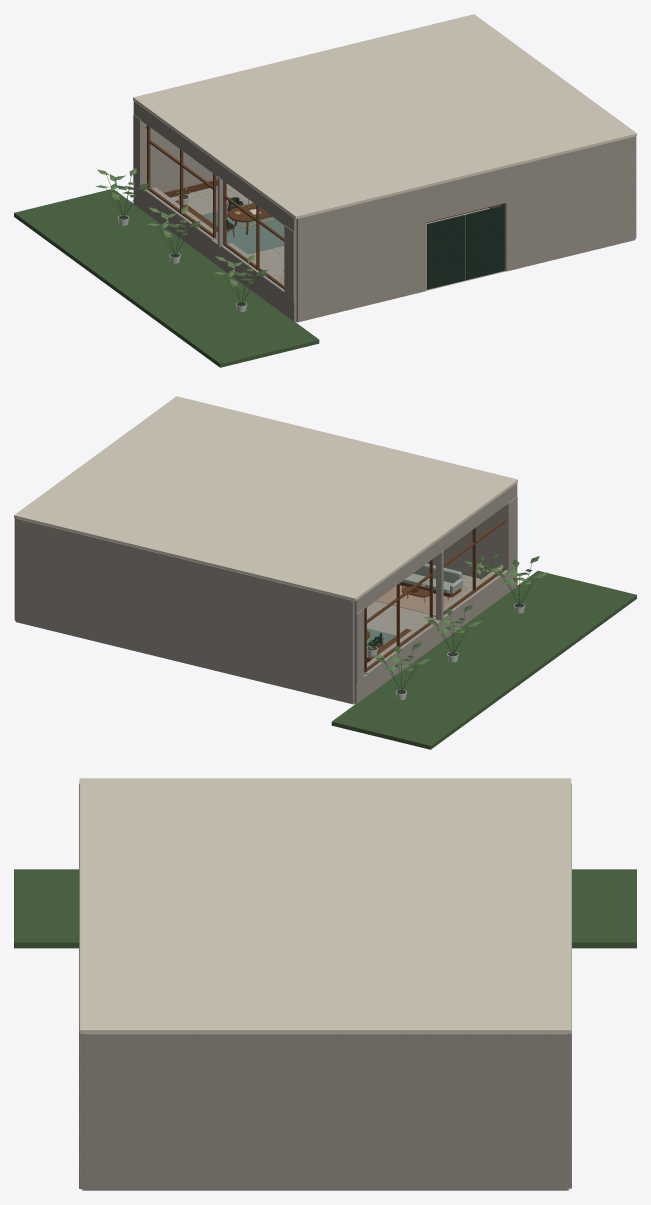
File: admissions_studio.glb
3 renders of one model, top to bottom at view 1: azimuth 30°, elevation 25°; view 2: azimuth 150°, elevation 25°; view 3: azimuth 270°, elevation 25°, orthographic. The views are drawn at different scales.
Parts seen in each view (by area): view 1: SM_Admissions_Architecture, SM_Admissions_Exterior, SM_Admissions_General; view 2: SM_Admissions_Architecture, SM_Admissions_Exterior, SM_Admissions_Lounge, SM_Admissions_General; view 3: SM_Admissions_Architecture, SM_Admissions_Exterior.
Part boxes in pixels (left/top/right/bottom): SM_Admissions_Architecture: left=133, top=14, right=636, bottom=322; SM_Admissions_Exterior: left=14, top=168, right=319, bottom=367; SM_Admissions_General: left=175, top=187, right=284, bottom=254; SM_Admissions_Architecture: left=14, top=396, right=517, bottom=704; SM_Admissions_Exterior: left=331, top=556, right=636, bottom=749; SM_Admissions_Lounge: left=375, top=553, right=502, bottom=614; SM_Admissions_General: left=367, top=628, right=411, bottom=662; SM_Admissions_Architecture: left=79, top=778, right=571, bottom=1190; SM_Admissions_Exterior: left=14, top=869, right=636, bottom=948.
Size of the model in its own units: 22.12 by 5.38 by 18.
Materials: 20 (6 with a texture image).
